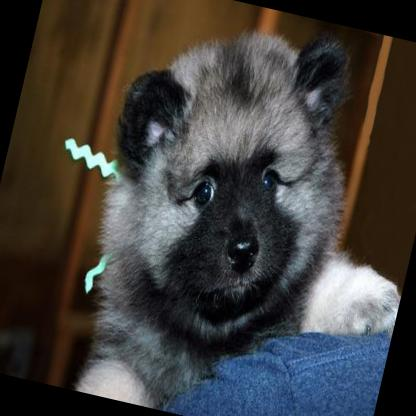keeshond: (58, 0, 416, 416)
